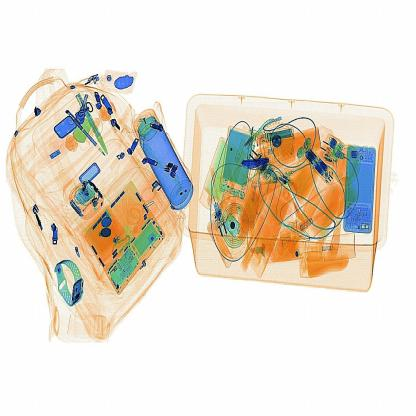knife: (239, 152, 275, 176)
